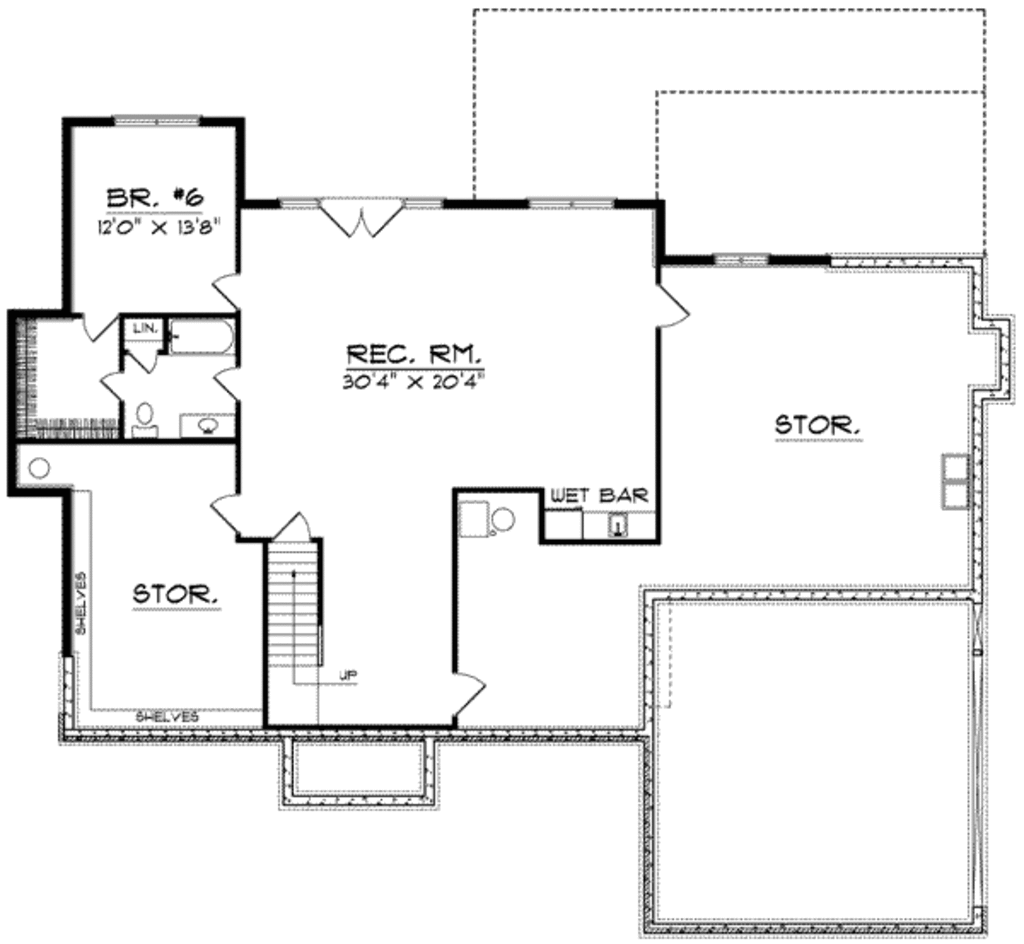door: (318, 199, 401, 237), (652, 283, 692, 337), (76, 306, 119, 346), (452, 670, 485, 715), (98, 370, 122, 402)
large_sink: (123, 395, 164, 443)
small_sink: (178, 410, 236, 443)
stairs: (265, 535, 330, 679)
tub: (160, 316, 236, 358)
windows: (110, 109, 207, 133), (516, 195, 619, 216), (702, 249, 769, 271)
